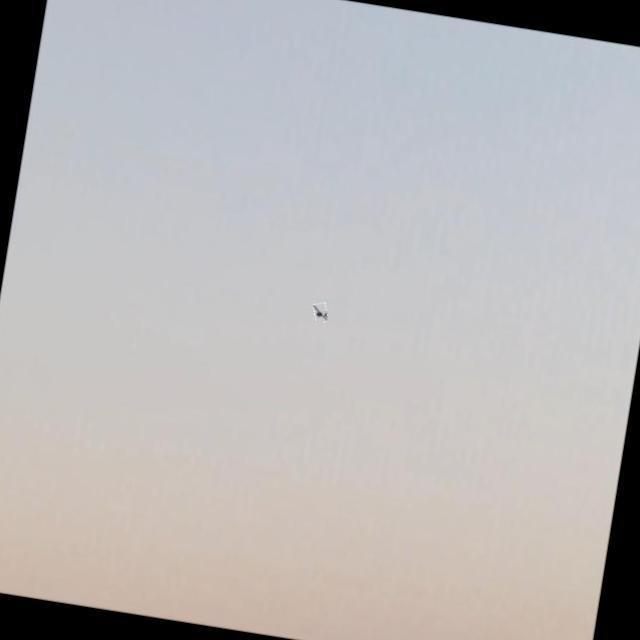iha: (300, 301, 341, 348)
